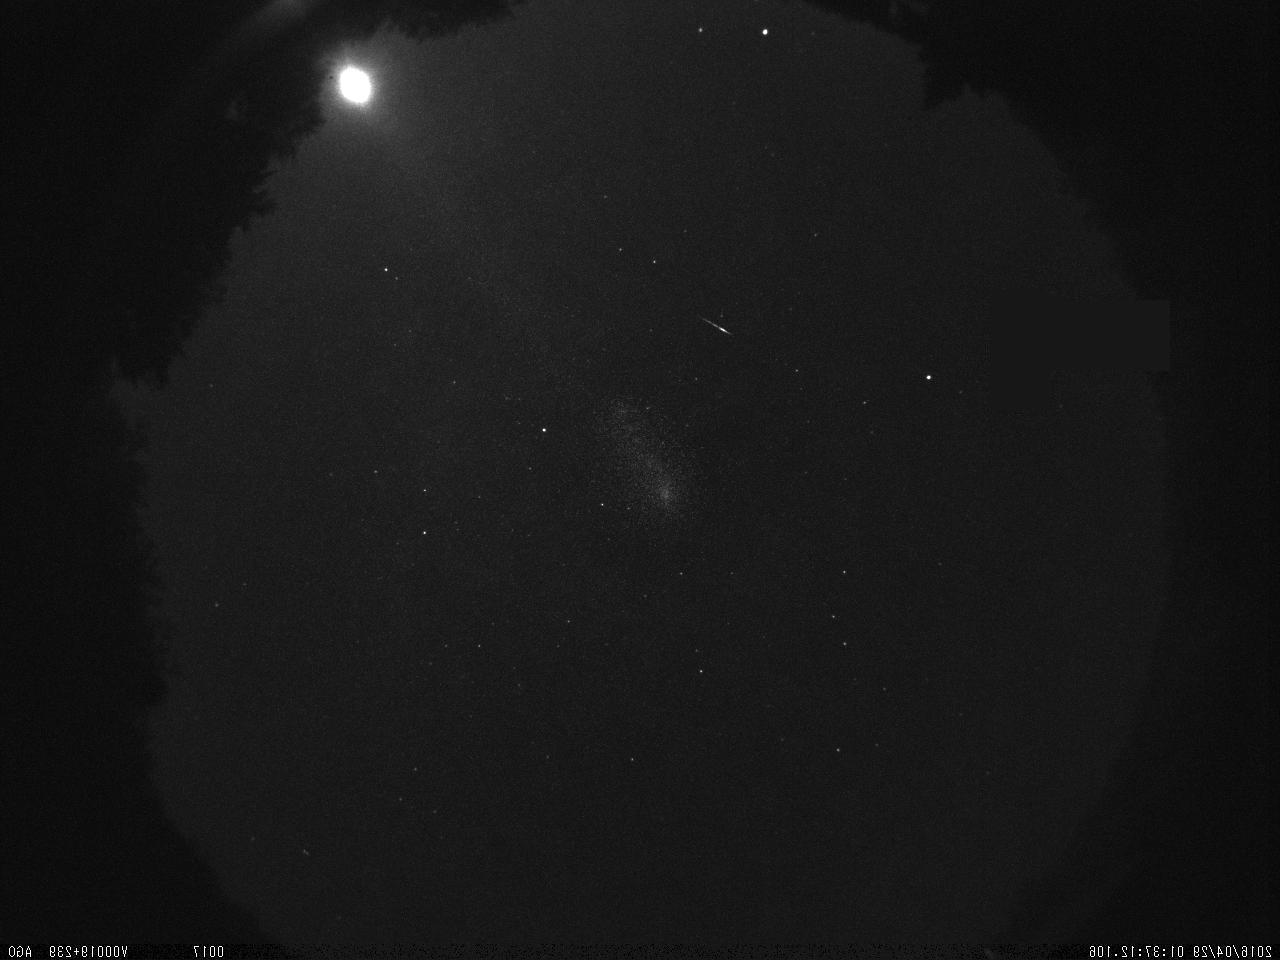meteor: (683, 310, 742, 345)
